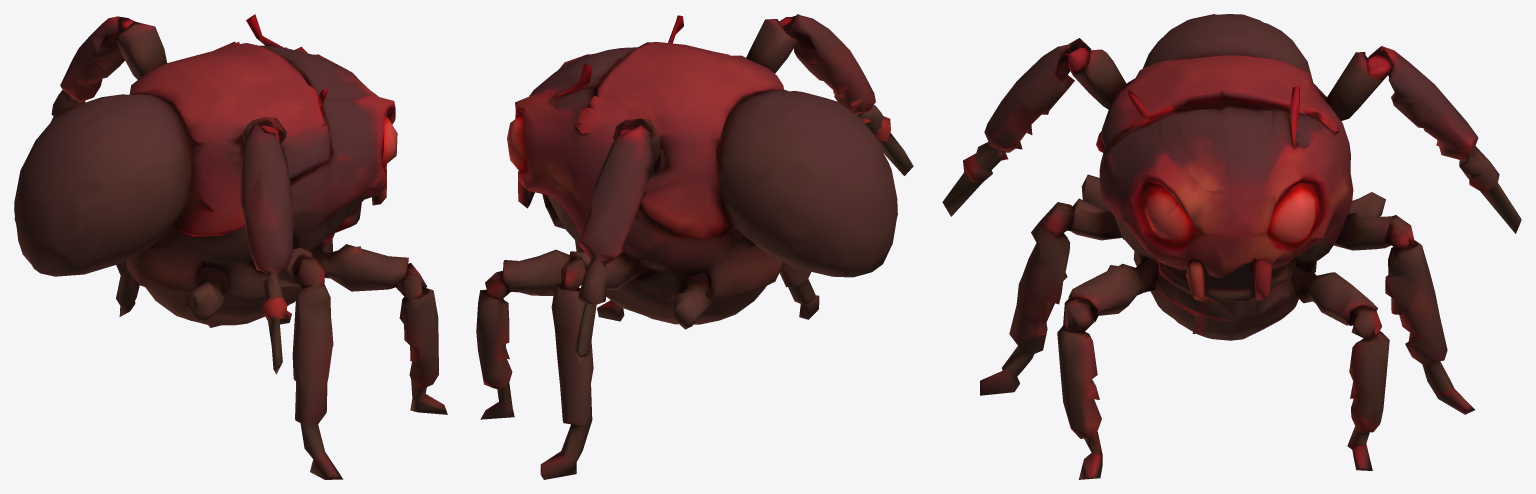
Rendered from 05a14dc8-8491-4980-a358-a238a11e721a-pbr-model.glb.
The picture shows the model from 3 angles, left to right: view 1: azimuth 30°, elevation 25°; view 2: azimuth 150°, elevation 25°; view 3: azimuth 270°, elevation 25°; orthographic projection. The views are drawn at different scales.
Parts seen in each view (by area): view 1: tripo_node_05a14dc8-8491-4980-a358-a238a11e721a; view 2: tripo_node_05a14dc8-8491-4980-a358-a238a11e721a; view 3: tripo_node_05a14dc8-8491-4980-a358-a238a11e721a.
Part boxes in pixels (x1,y1,x2,y2): tripo_node_05a14dc8-8491-4980-a358-a238a11e721a: (14, 14, 447, 479); tripo_node_05a14dc8-8491-4980-a358-a238a11e721a: (476, 14, 913, 479); tripo_node_05a14dc8-8491-4980-a358-a238a11e721a: (942, 14, 1521, 479).
Bounding box in the file's own units: 0.7254 × 0.6727 × 1.
1 material, 1 textured.
